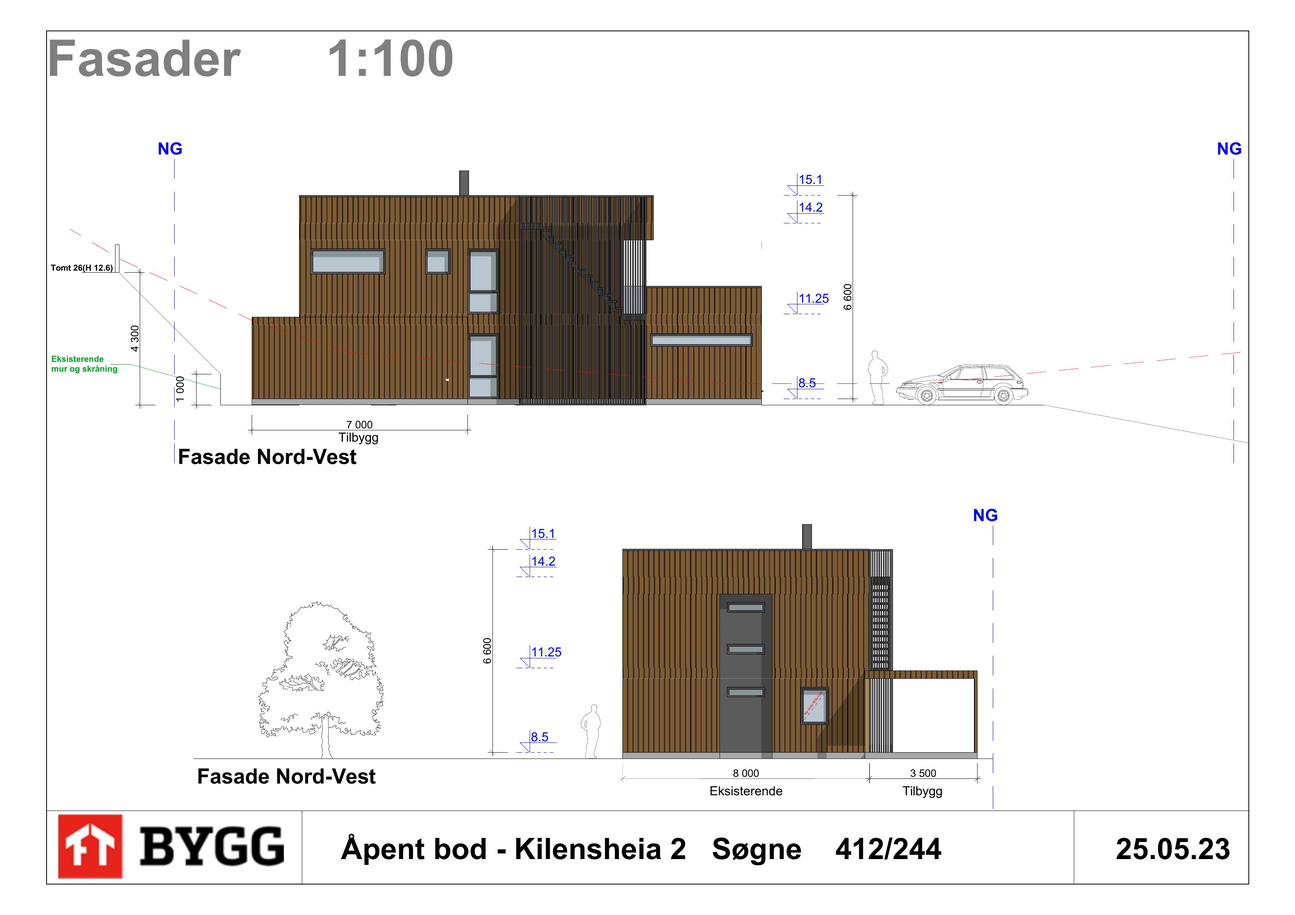fasade: (251, 169, 783, 415), (604, 518, 983, 765)
tekst: (176, 443, 359, 473), (191, 764, 380, 788)
